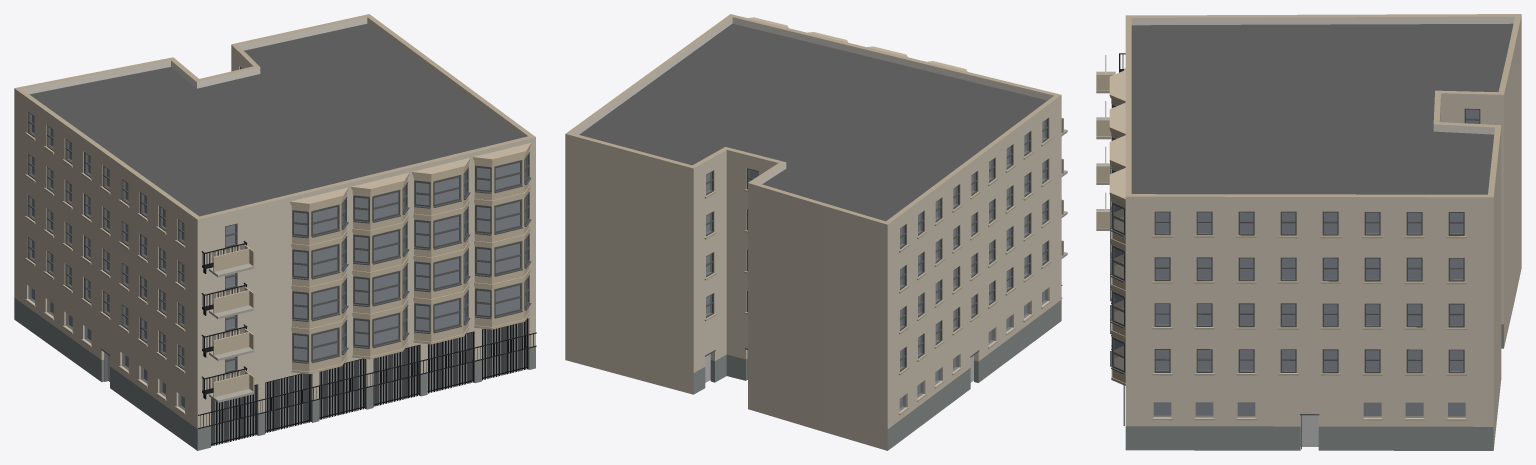
File: exterior.glb
The picture shows the model from 3 angles, left to right: view 1: azimuth 30°, elevation 25°; view 2: azimuth 150°, elevation 25°; view 3: azimuth 270°, elevation 25°; orthographic projection. The views are drawn at different scales.
Visible parts, largest first — view 1: shell, roof, bay-glazing-hyb, shadow-proxy, bay-windows-hyb, storefront, hand-ornament, glazing, frames, trim, balcony-rail; view 2: shell, roof, glazing, frames, shadow-proxy, trim; view 3: shell, roof, glazing, shadow-proxy, frames, bay-windows-hyb, trim, bay-glazing-hyb, hand-ornament.
Part boxes in pixels (x1,y1,x2,y2): shell: (14, 14, 535, 450); roof: (29, 24, 521, 216); bay-glazing-hyb: (292, 152, 531, 363); shadow-proxy: (32, 115, 525, 443); bay-windows-hyb: (290, 143, 531, 374); storefront: (101, 318, 527, 446); hand-ornament: (198, 245, 536, 428); glazing: (28, 113, 235, 410); frames: (27, 67, 241, 373); trim: (25, 132, 239, 414); balcony-rail: (201, 241, 247, 399); shell: (565, 14, 1061, 450); roof: (579, 23, 1047, 221); glazing: (706, 120, 1047, 411); frames: (706, 118, 1048, 371); shadow-proxy: (705, 122, 1044, 407); trim: (704, 138, 1051, 414); shell: (1125, 14, 1521, 450); roof: (1131, 23, 1513, 194); glazing: (1153, 109, 1479, 417); shadow-proxy: (1154, 110, 1478, 446); frames: (1154, 108, 1480, 373); bay-windows-hyb: (1109, 70, 1125, 385); trim: (1124, 68, 1466, 420); bay-glazing-hyb: (1110, 99, 1125, 374); hand-ornament: (1096, 55, 1124, 425).
Size of the model in its own units: 24.59 by 15.77 by 23.97.
